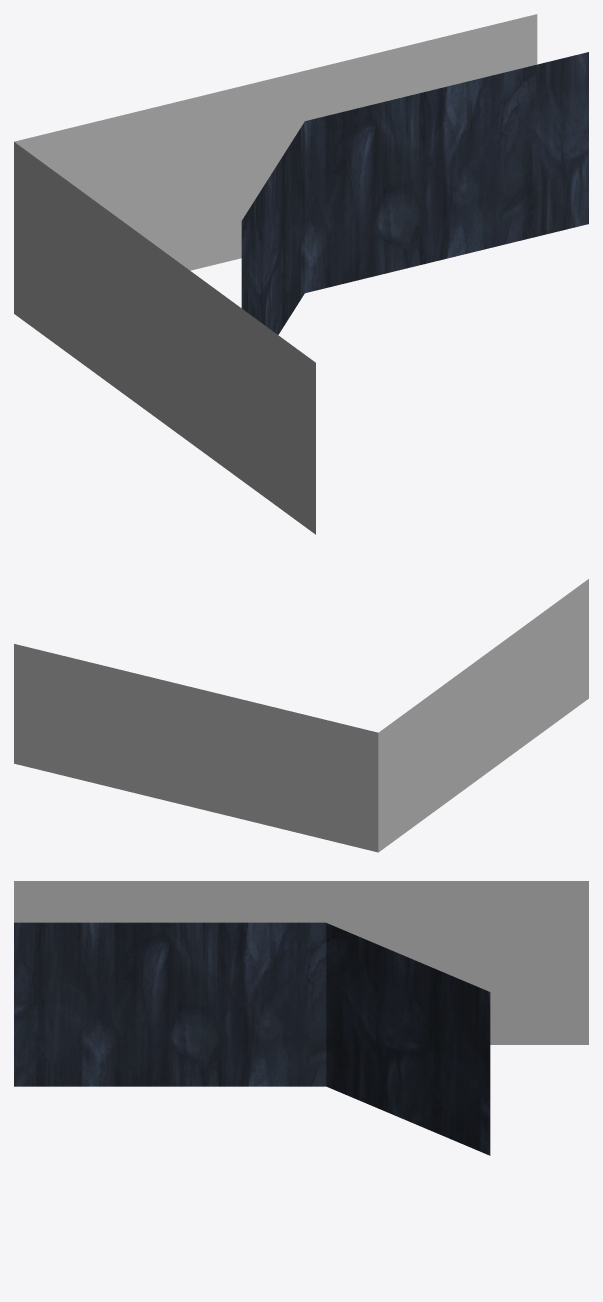
File: mine_quarter_concave_01.fbx
The picture shows the model from 3 angles, top to bottom: view 1: azimuth 30°, elevation 25°; view 2: azimuth 150°, elevation 25°; view 3: azimuth 270°, elevation 25°; orthographic projection. The views are drawn at different scales.
Visible parts, largest first — view 1: obj1.015; view 2: obj1.015; view 3: obj1.015.
Part boxes in pixels (x1,y1,x2,y2): obj1.015: (14, 14, 588, 534); obj1.015: (14, 579, 588, 852); obj1.015: (14, 881, 588, 1155).
Size of the model in its own units: 4.38 by 1.38 by 4.38.
